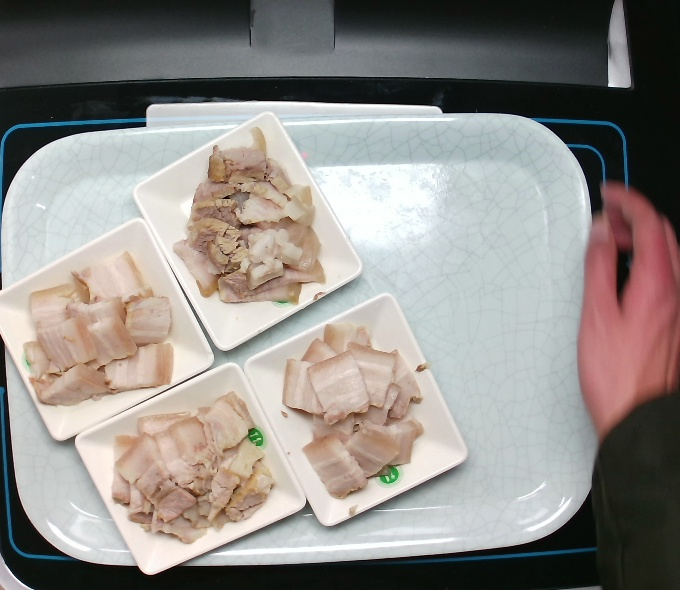wcq-BaiQieRou: (13, 250, 193, 413), (109, 390, 288, 547), (273, 324, 430, 500), (173, 132, 324, 314)
